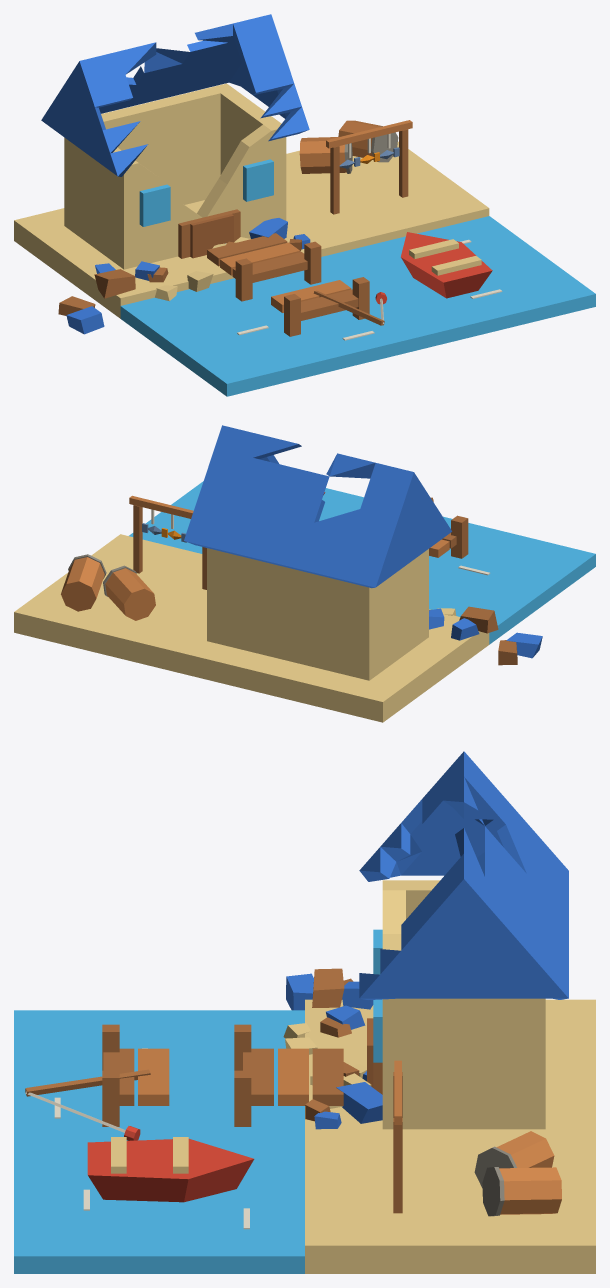
The model's file is fishery_t2_v1_dmg1.glb.
3 renders of one model, top to bottom at view 1: azimuth 30°, elevation 25°; view 2: azimuth 150°, elevation 25°; view 3: azimuth 270°, elevation 25°, orthographic. The views are drawn at different scales.
Parts seen in each view (by area): view 1: fishery_t2_v1_dmg1; view 2: fishery_t2_v1_dmg1; view 3: fishery_t2_v1_dmg1.
Part boxes in pixels (x1,y1,x2,y2): fishery_t2_v1_dmg1: (14,14,595,396); fishery_t2_v1_dmg1: (14,425,595,722); fishery_t2_v1_dmg1: (14,751,595,1273).
Size of the model in its own units: 0.855 by 0.41 by 0.75.
1 material, 1 textured.
